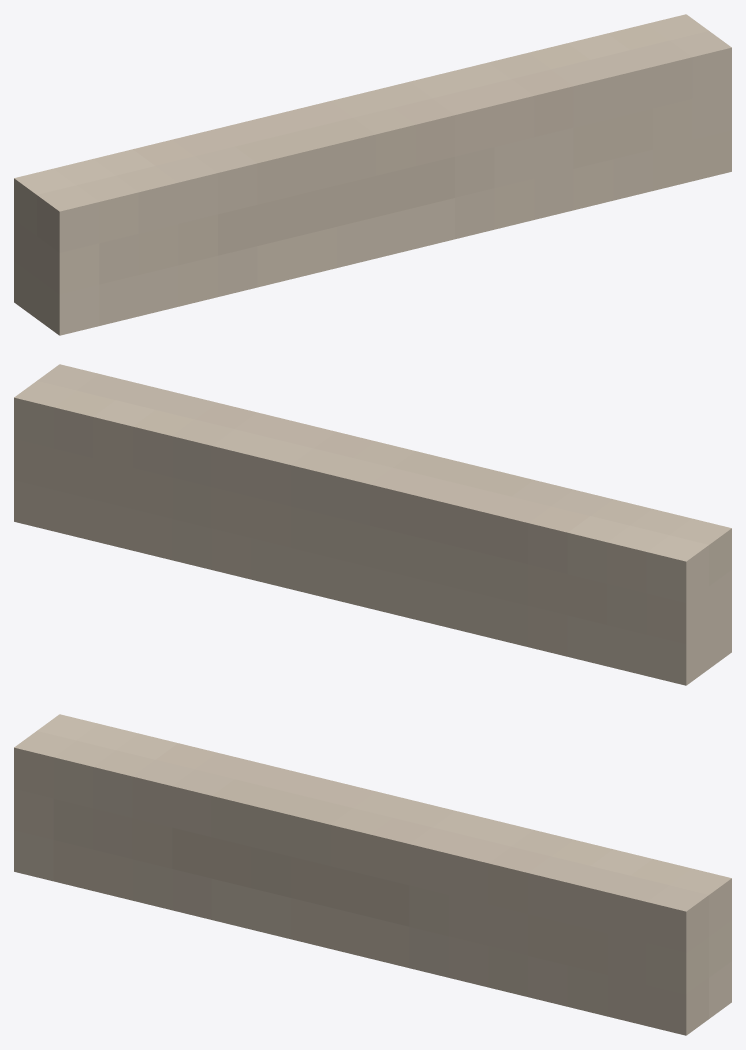
File: palazzo15.glb
3 renders of one model, top to bottom at view 1: azimuth 30°, elevation 25°; view 2: azimuth 150°, elevation 25°; view 3: azimuth 330°, elevation 25°, orthographic.
Parts seen in each view (by area): view 1: Marcapiano; view 2: Marcapiano; view 3: Marcapiano.
Boxes of the visible parts, box(x1,y1,x2,y2) form: Marcapiano: box(14, 14, 731, 335); Marcapiano: box(14, 364, 731, 685); Marcapiano: box(14, 714, 731, 1035).
Size of the model in its own units: 17 by 3 by 2.
1 material, 1 textured.
